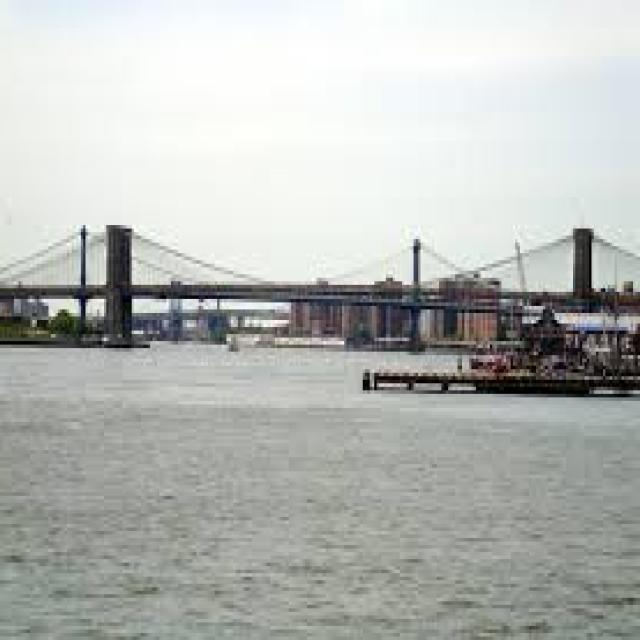Bridges: (0, 191, 634, 385)
